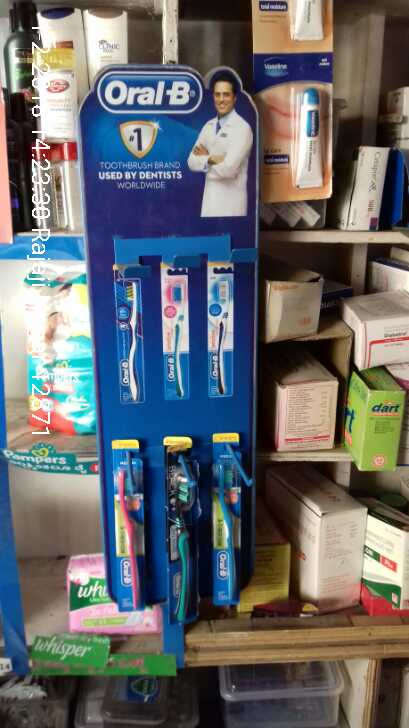oralb: (163, 434, 199, 620), (109, 439, 145, 606), (213, 432, 245, 602)
